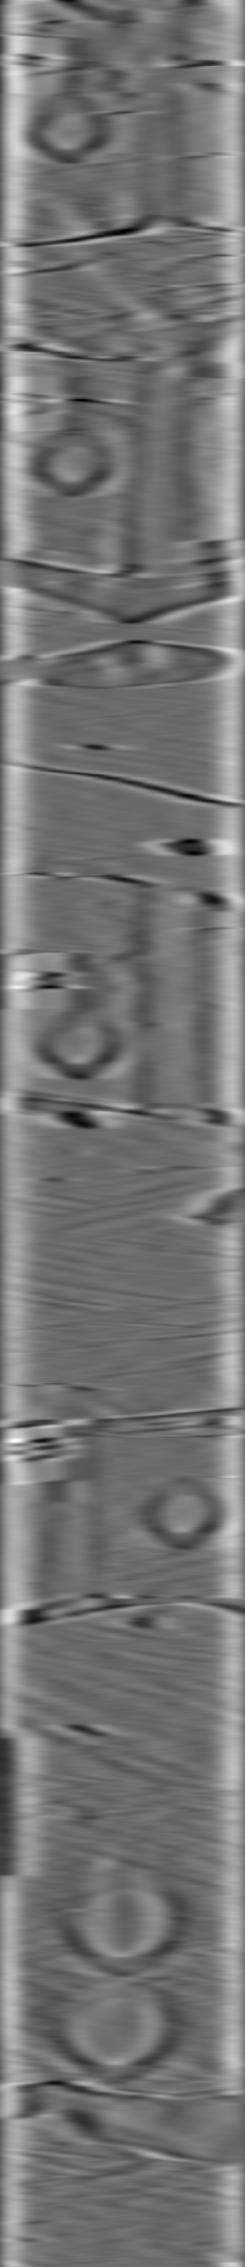hplug: (139, 1469, 228, 1557), (20, 85, 112, 166), (28, 419, 113, 505), (33, 999, 120, 1083)
scal: (54, 1856, 183, 1978), (51, 1979, 181, 2091)
vplug: (128, 873, 216, 1120), (116, 356, 206, 578), (125, 4, 202, 236), (32, 1413, 106, 1627)
